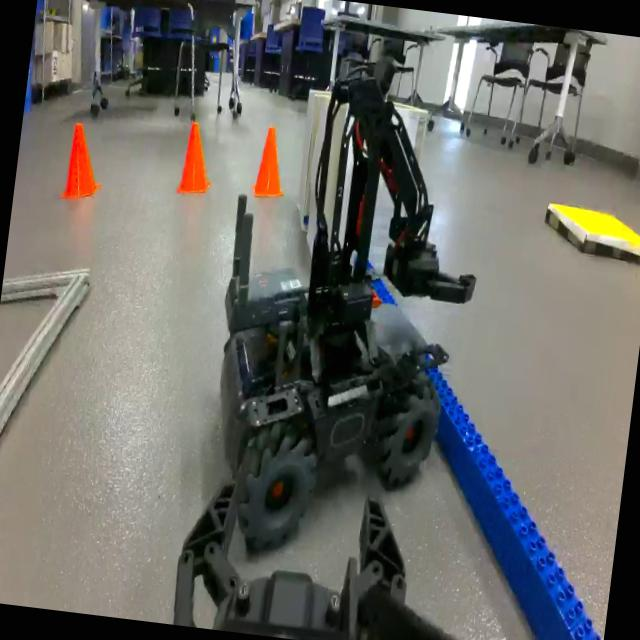cone: (56, 116, 108, 210), (172, 111, 220, 202), (250, 118, 292, 205)
metal barrier: (0, 251, 99, 498)
river: (409, 385, 631, 640)
robot: (196, 37, 504, 574)
yellow goal: (537, 191, 640, 267)
